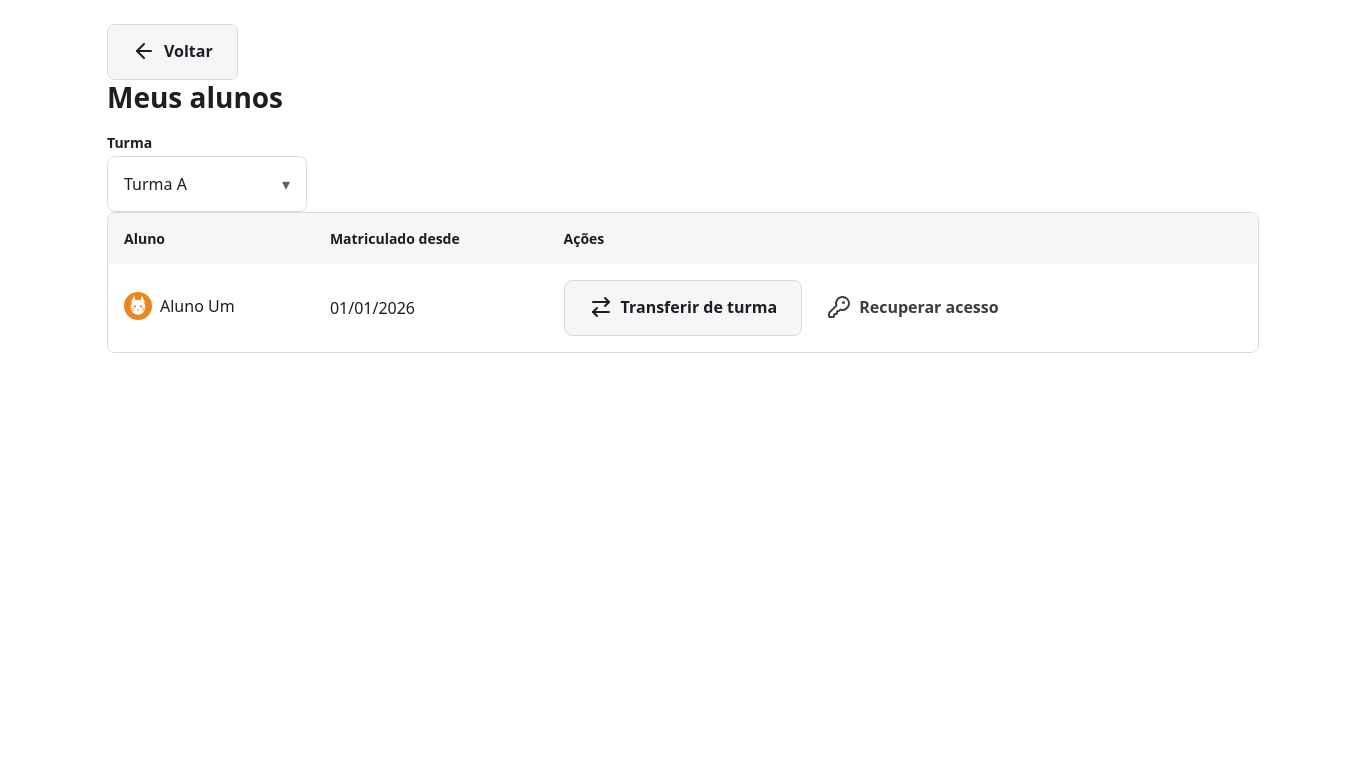
Scenario: TeacherStudents › opens a transfer dialog offering only OTHER classrooms, never the current one
Check: the text "Aluno Um" is shown, box [124,292,235,320]
Click the button "Transferir de turma" at (683, 308), box [564,280,802,336]
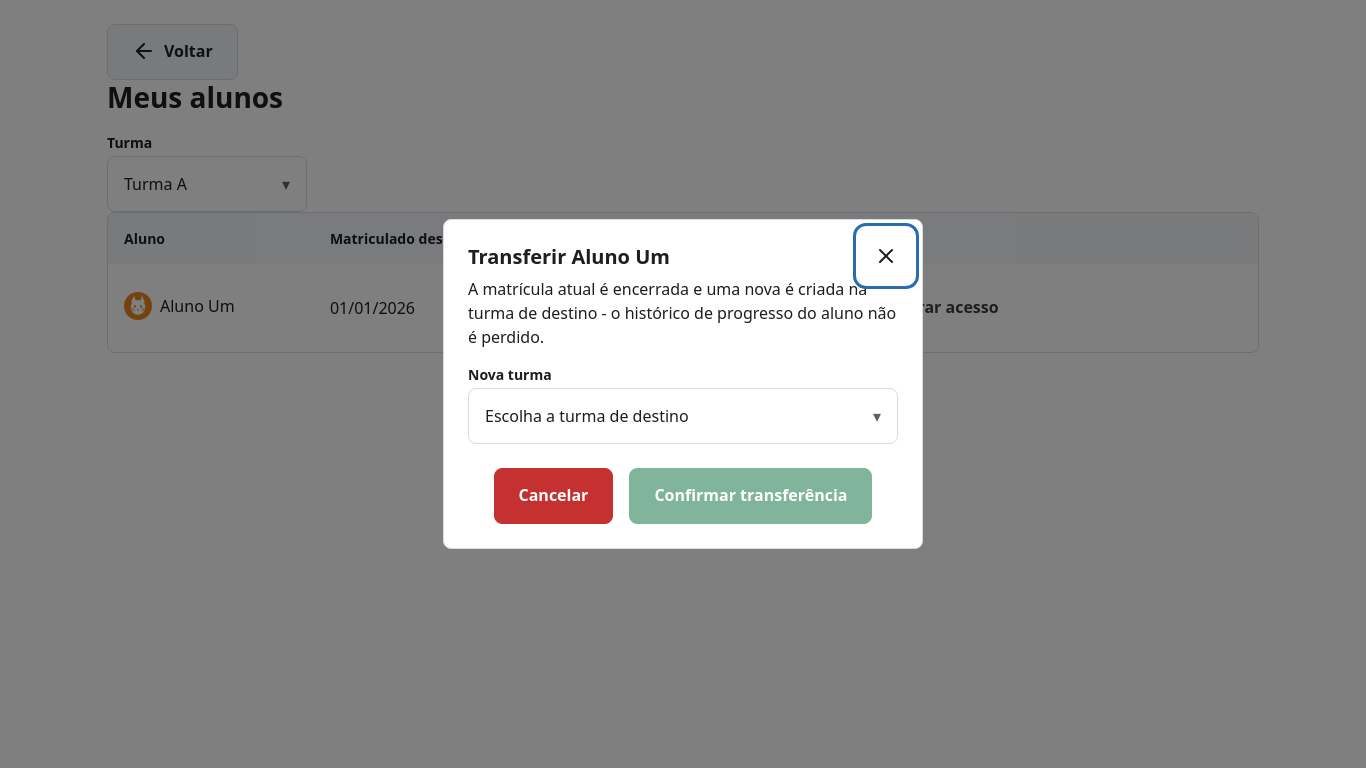
Click the dropdown at (683, 416), box [468,388,898,444]
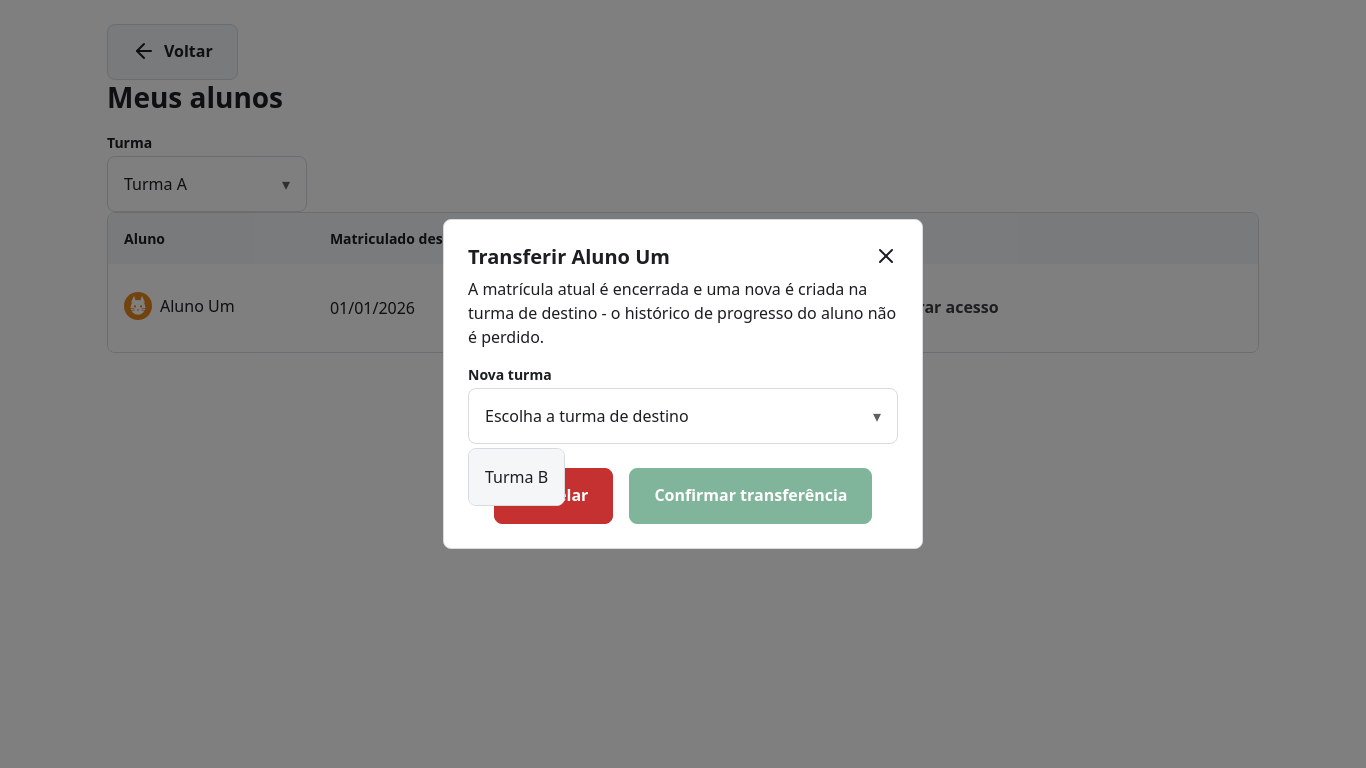
Check: the option "Turma B" is shown, box [469,449,564,505]
